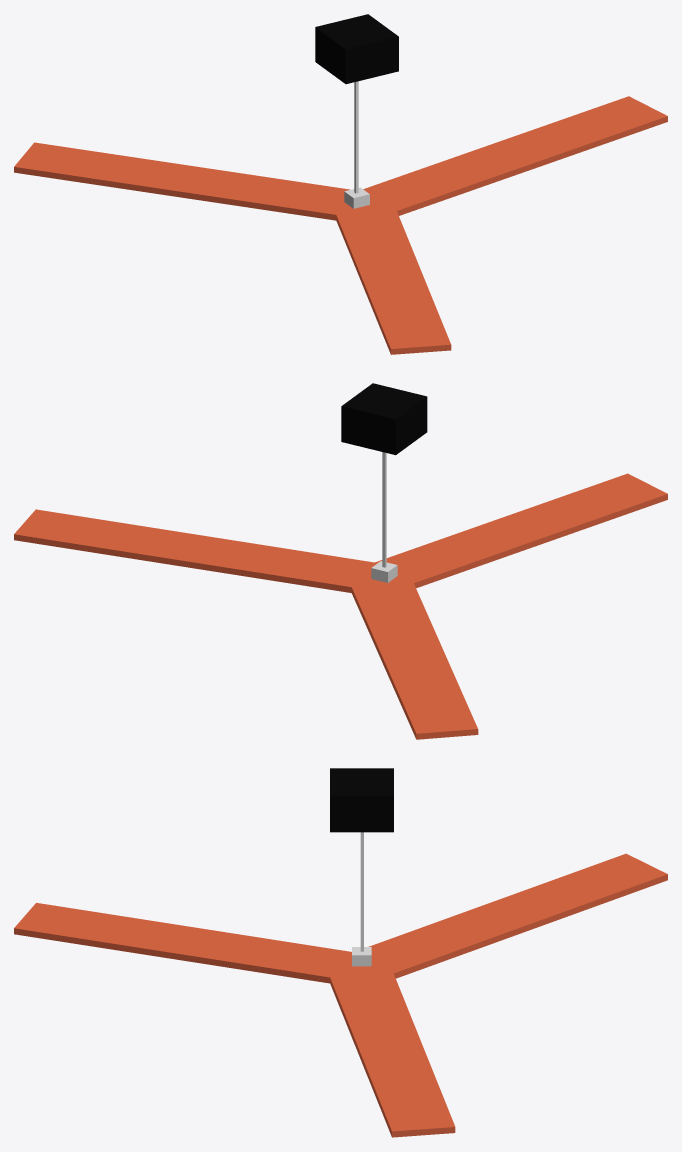
File: propeller-lamp.glb
The picture shows the model from 3 angles, top to bottom: view 1: azimuth 30°, elevation 25°; view 2: azimuth 150°, elevation 25°; view 3: azimuth 270°, elevation 25°; orthographic projection. The views are drawn at different scales.
Parts seen in each view (by area): view 1: Cube.001, Cube; view 2: Cube.001, Cube; view 3: Cube.001, Cube.
Part boxes in pixels (x1=…): Cube.001: x1=14, y1=81, x2=667, y2=354; Cube: x1=315, y1=14, x2=398, y2=84; Cube.001: x1=14, y1=452, x2=667, y2=739; Cube: x1=341, y1=383, x2=427, y2=455; Cube.001: x1=14, y1=832, x2=667, y2=1137; Cube: x1=330, y1=768, x2=393, y2=832.
Size of the model in its own units: 2.22 by 0.7037 by 2.21.
